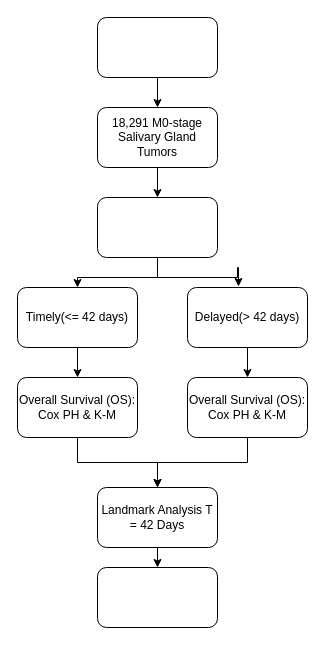
Image size: 325x645. Some labels were removed from this diagram. The centre of each missing label's shape, as x and y in pixels:
"Cancer Mortality: Fine-Gray Regression (FGR)" goes at point (157, 597).
"Exposure: Treatment Delay (Time from Dx to Tx)" goes at point (157, 227).
"SEER Program Database" goes at point (157, 47).
